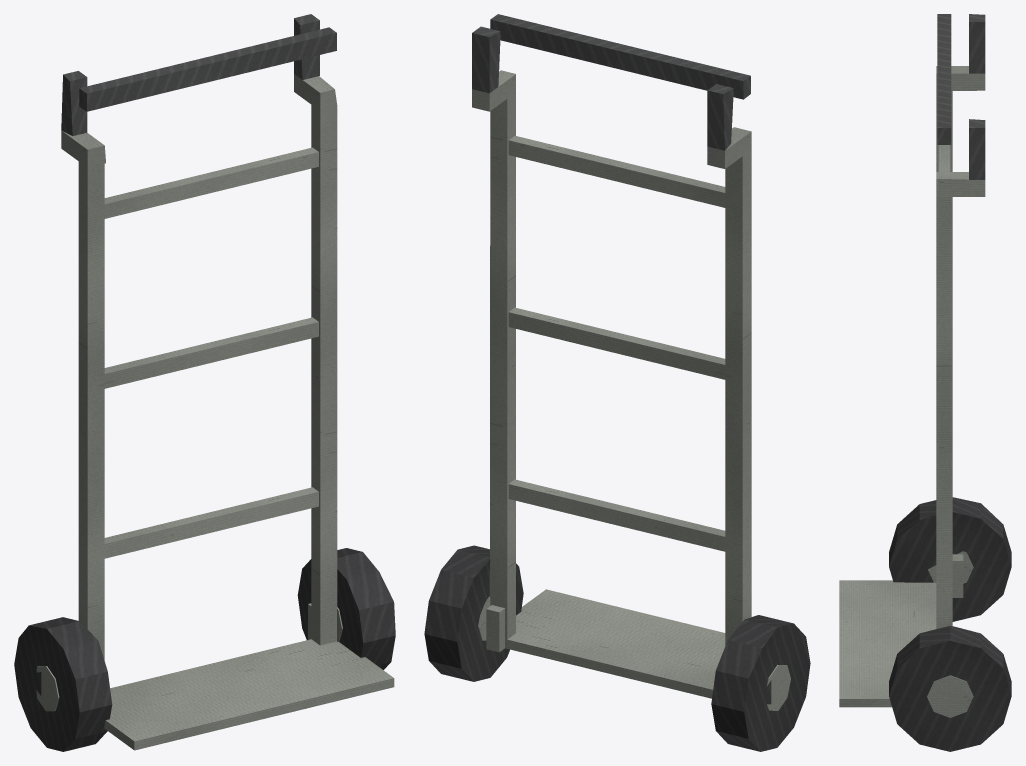
File: handtruck_v3.glb
3 views of the same model, side by side, from view 1: azimuth 30°, elevation 25°; view 2: azimuth 150°, elevation 25°; view 3: azimuth 270°, elevation 25° (orthographic). The views are drawn at different scales.
Parts seen in each view (by area): view 1: Variant_handtruck_3; view 2: Variant_handtruck_3; view 3: Variant_handtruck_3.
Boxes of the visible parts, box(x1,y1,x2,y2) form: Variant_handtruck_3: box(14, 14, 395, 751); Variant_handtruck_3: box(424, 14, 810, 751); Variant_handtruck_3: box(839, 14, 1011, 751).
Bounding box in the file's own units: 0.5923 × 1.15 × 0.295.
3 materials, 3 textured.
